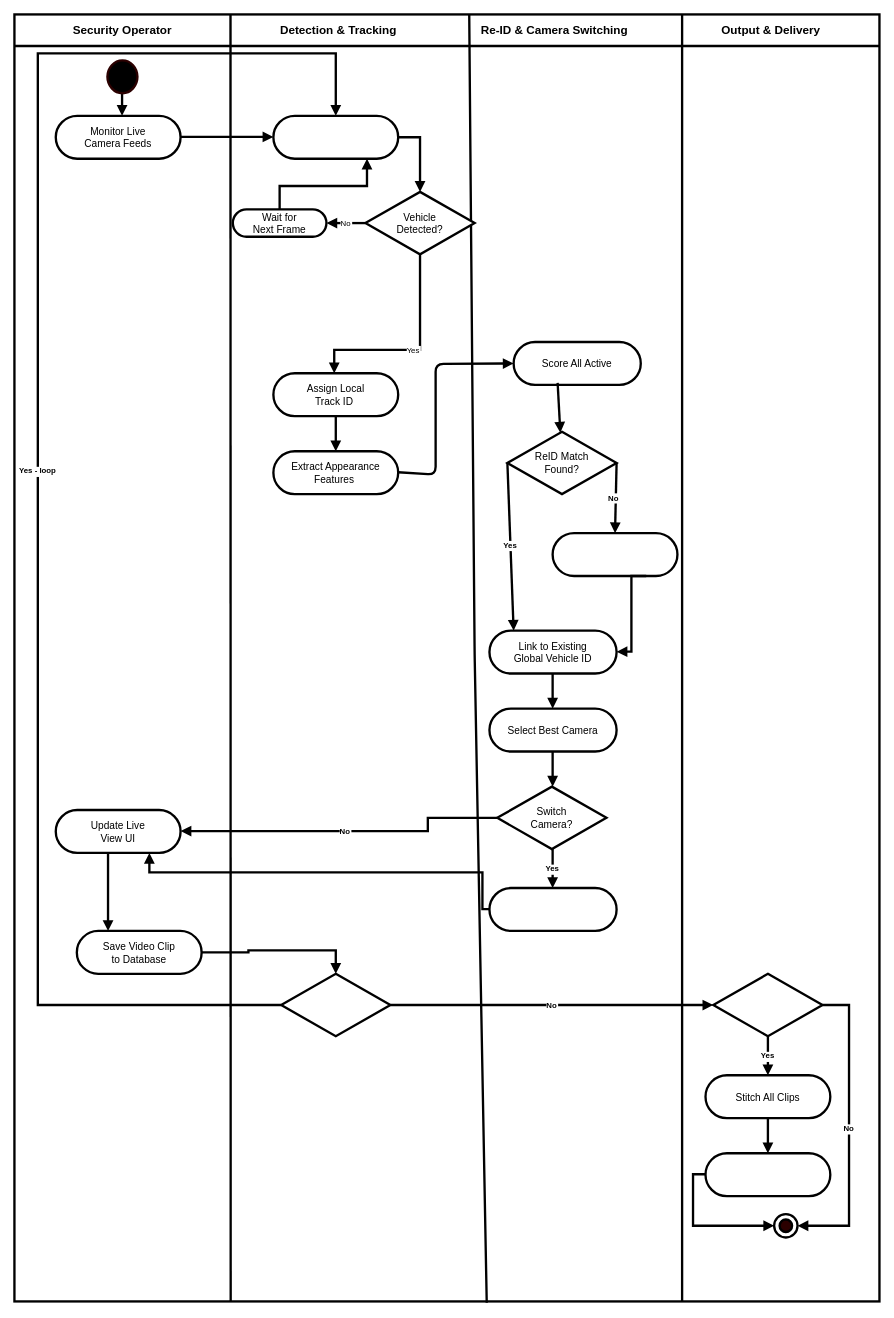
Image size: 894x1318. Some labels were removed from this diagram. The shapes that lost their labels are listed below. From the top down, each one's centre as x and y in pixels, then its label:
pixel 335 137: Capture Frame from Camera
pixel 614 554: Assign New Global Vehicle ID
pixel 552 909: Apply Smooth Transition
pixel 335 1004: Car Still in Network?
pixel 767 1004: Full Video Requested?
pixel 767 1174: Send Compiled Video via Email
